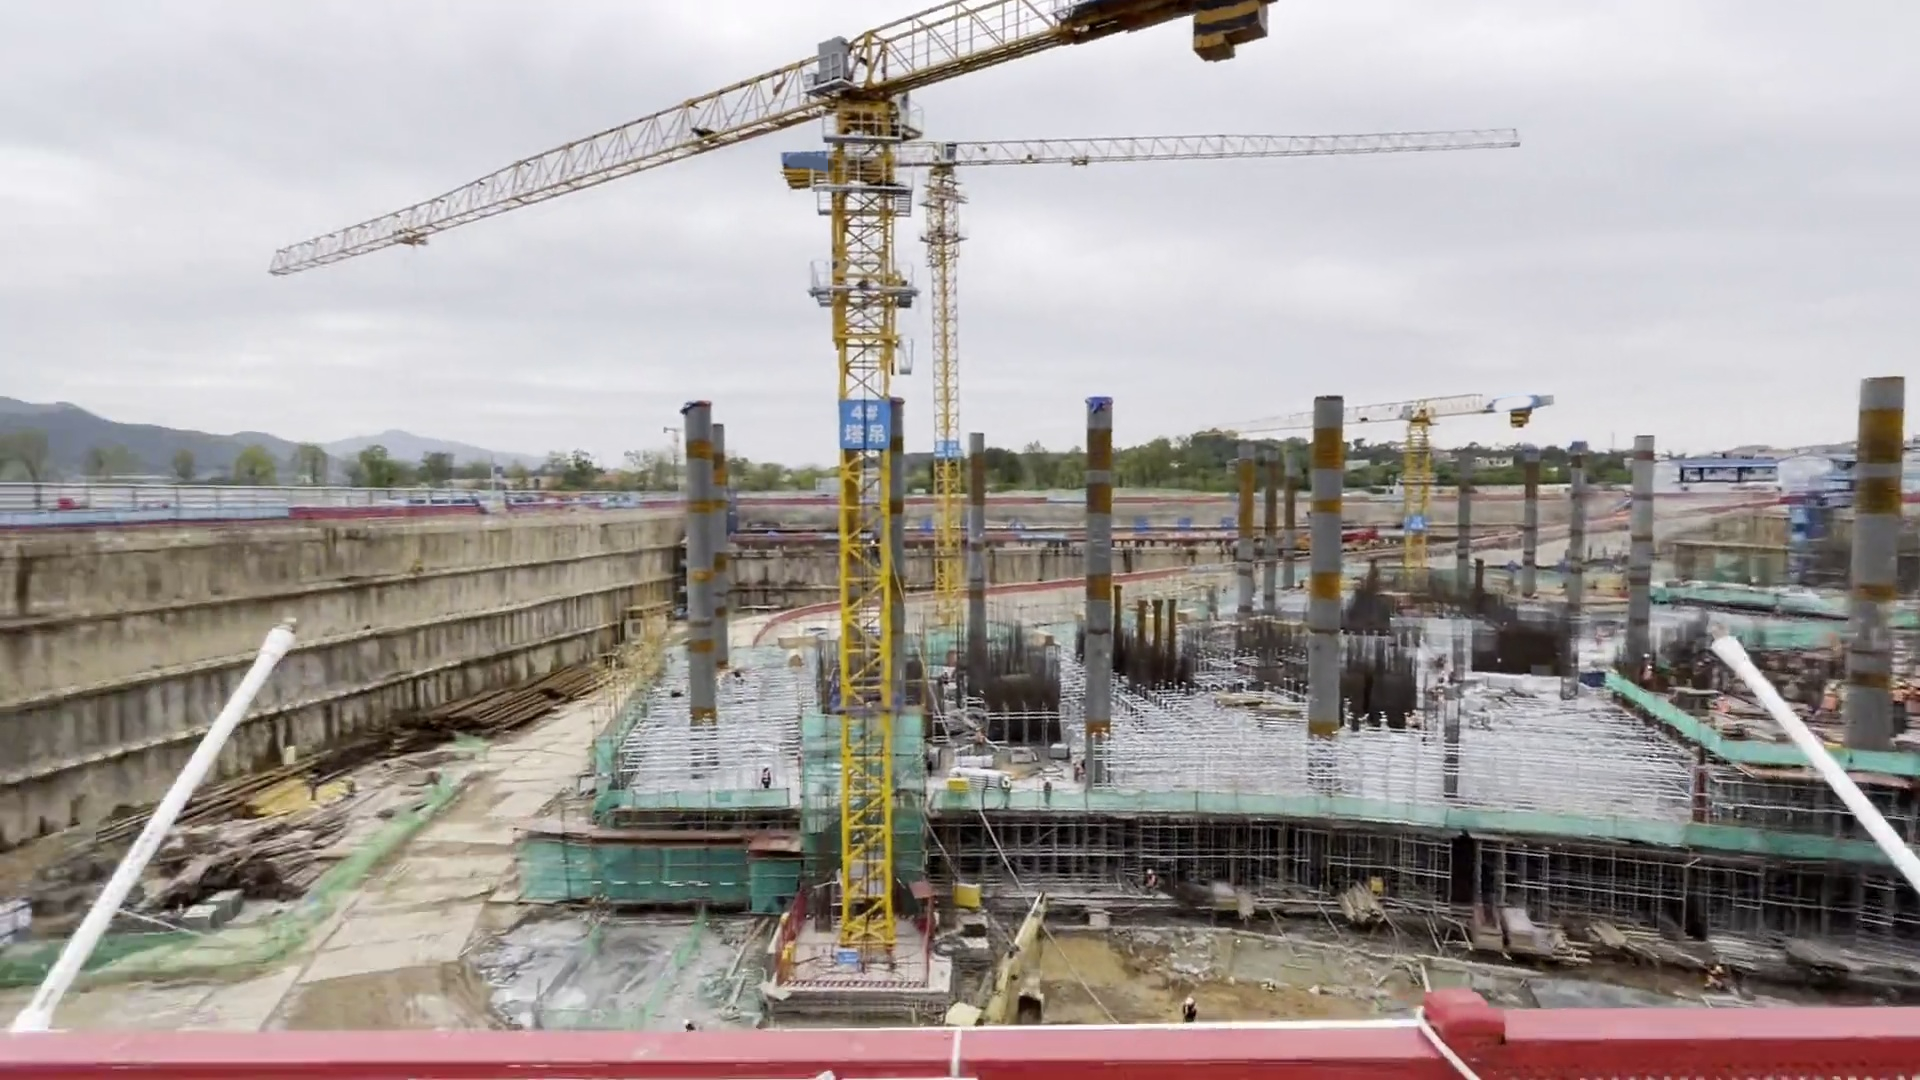ebox: (952, 880, 980, 909), (948, 781, 971, 799)
wood: (1336, 890, 1375, 923)
